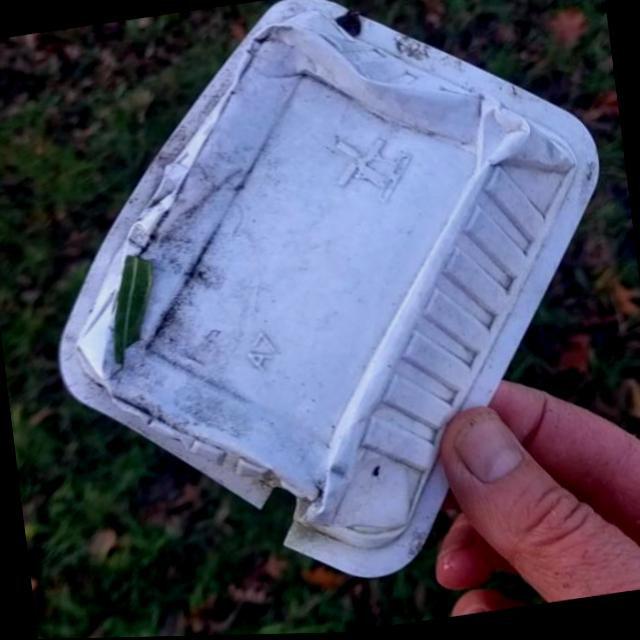Plastic: (14, 0, 640, 627)
